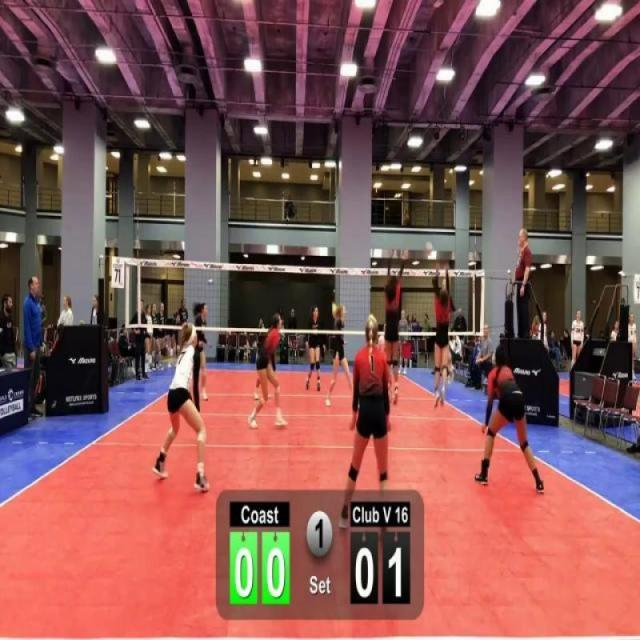volleyball: (424, 239, 433, 257)
